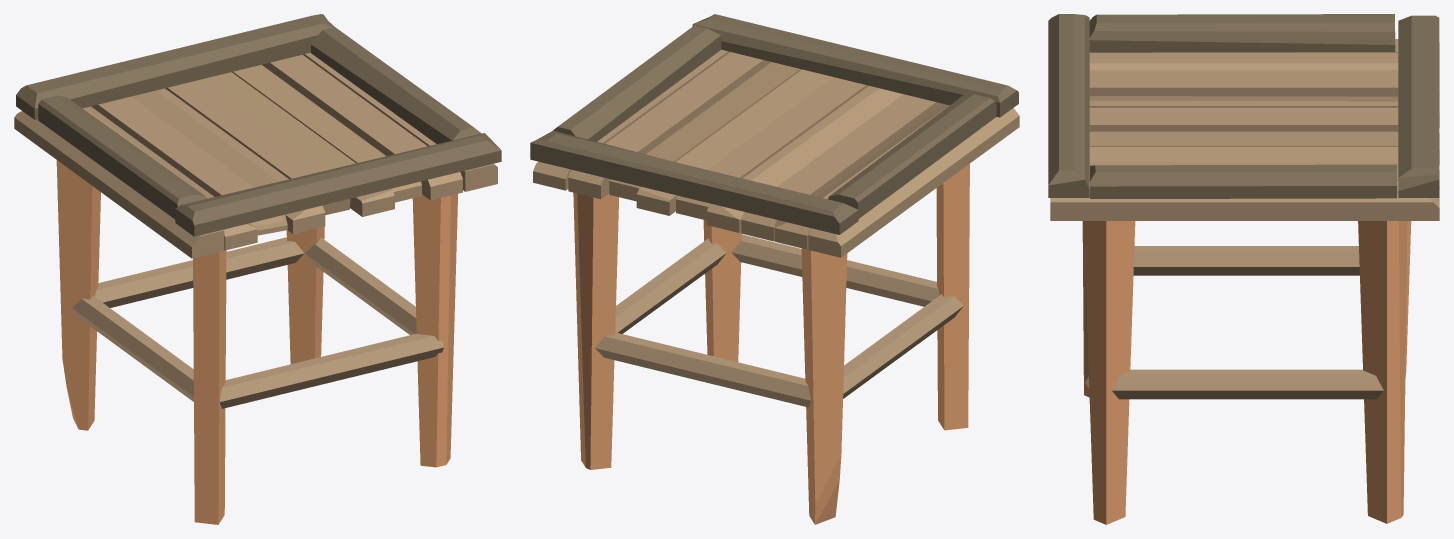
File: Table_2_White.fbx
3 renders of one model, left to right at view 1: azimuth 30°, elevation 25°; view 2: azimuth 150°, elevation 25°; view 3: azimuth 270°, elevation 25°, orthographic. The views are drawn at different scales.
Parts seen in each view (by area): view 1: Cube.205, Cube.206, Cube.194, Cube.191, Cube.192, Cube.208, Cube.207, Cylinder.066, Cube.203, Cube.198, Cube.195, Cube.199 (+9 smaller); view 2: Cube.206, Cube.193, Cube.191, Cube.205, Cube.192, Cube.208, Cube.207, Cube.203, Cylinder.067, Cube.198, Cube.195, Cube.199 (+9 smaller); view 3: Cube.193, Cube.194, Cube.208, Cube.207, Cube.204, Cube.198, Cylinder.069, Cube.196, Cube.205, Cube.206, Cylinder.068, Cube.201 (+5 smaller).
Part boxes in pixels (x1,y1,x2,y2): Cube.205: (175, 133, 501, 236); Cube.206: (16, 14, 334, 119); Cube.194: (412, 194, 457, 467); Cube.191: (56, 160, 100, 430); Cube.192: (193, 250, 226, 524); Cube.208: (38, 95, 207, 219); Cube.207: (311, 27, 481, 143); Cylinder.066: (220, 333, 444, 408); Cube.203: (262, 55, 462, 200); Cube.198: (91, 96, 287, 235); Cube.195: (14, 111, 224, 258); Cube.199: (131, 88, 325, 233); Cube.206: (530, 130, 858, 234); Cube.193: (573, 192, 618, 469); Cube.191: (801, 248, 847, 524); Cube.205: (692, 14, 1018, 117); Cube.192: (936, 164, 969, 430); Cube.208: (828, 93, 996, 218); Cube.207: (553, 25, 721, 141); Cube.203: (568, 52, 771, 199); Cylinder.067: (595, 332, 810, 407); Cube.198: (741, 94, 942, 241); Cube.195: (808, 108, 1019, 257); Cube.199: (706, 86, 903, 232); Cube.193: (1358, 221, 1407, 523); Cube.194: (1083, 221, 1135, 524); Cube.208: (1089, 14, 1395, 52); Cube.207: (1090, 164, 1396, 198); Cube.204: (1050, 181, 1439, 220); Cube.198: (1089, 70, 1439, 96); Cylinder.069: (1112, 369, 1383, 399); Cube.196: (1089, 107, 1398, 131); Cube.205: (1048, 14, 1089, 197); Cube.206: (1398, 15, 1439, 197); Cylinder.068: (1133, 246, 1359, 275); Cube.201: (1089, 52, 1439, 76).
Size of the model in its own units: 378 by 383 by 375.
